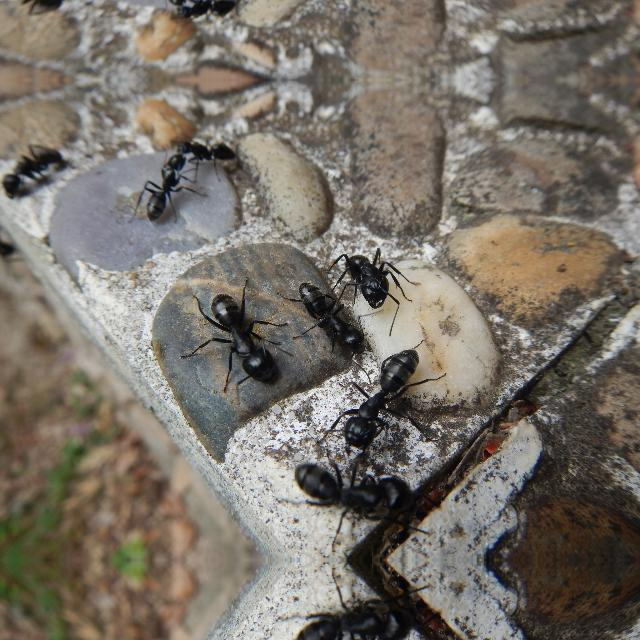Camponotus: (333, 345, 453, 449), (188, 271, 276, 399), (296, 460, 420, 532), (338, 233, 428, 314), (280, 272, 354, 362), (294, 588, 420, 640), (136, 160, 204, 230), (4, 137, 70, 200), (162, 132, 248, 166), (162, 0, 248, 28), (4, 0, 70, 22)
